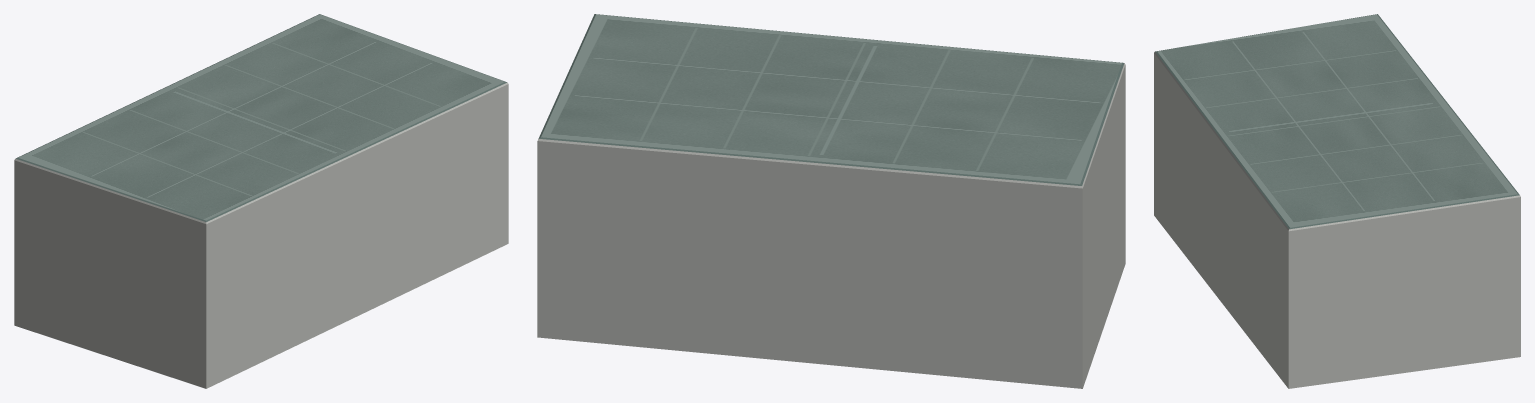
The model's file is fragments.glb.
The picture shows the model from 3 angles, left to right: view 1: azimuth 30°, elevation 25°; view 2: azimuth 150°, elevation 25°; view 3: azimuth 270°, elevation 25°; orthographic projection. The views are drawn at different scales.
Visible parts, largest first — view 1: SM_gh32_Fragment_000, SM_gh32_Fragment_017, SM_gh32_Fragment_029, SM_gh32_Fragment_004, SM_gh32_Fragment_005, SM_gh32_Fragment_002, SM_gh32_Fragment_010, SM_gh32_Fragment_021, SM_gh32_Fragment_054, SM_gh32_Fragment_041, SM_gh32_Fragment_006, SM_gh32_Fragment_043 (+26 smaller); view 2: SM_gh32_Fragment_025, SM_gh32_Fragment_040, SM_gh32_Fragment_024, SM_gh32_Fragment_007, SM_gh32_Fragment_027, SM_gh32_Fragment_039, SM_gh32_Fragment_058, SM_gh32_Fragment_020, SM_gh32_Fragment_003, SM_gh32_Fragment_015, SM_gh32_Fragment_049, SM_gh32_Fragment_043 (+24 smaller); view 3: SM_gh32_Fragment_022, SM_gh32_Fragment_008, SM_gh32_Fragment_009, SM_gh32_Fragment_030, SM_gh32_Fragment_015, SM_gh32_Fragment_029, SM_gh32_Fragment_051, SM_gh32_Fragment_037, SM_gh32_Fragment_000, SM_gh32_Fragment_043, SM_gh32_Fragment_002, SM_gh32_Fragment_028 (+23 smaller).
Part boxes in pixels (x1=…): SM_gh32_Fragment_000: x1=169, y1=175, x2=290, y2=284; SM_gh32_Fragment_017: x1=103, y1=199, x2=200, y2=311; SM_gh32_Fragment_029: x1=260, y1=130, x2=373, y2=240; SM_gh32_Fragment_004: x1=14, y1=138, x2=110, y2=216; SM_gh32_Fragment_005: x1=297, y1=238, x2=360, y2=344; SM_gh32_Fragment_002: x1=297, y1=99, x2=430, y2=173; SM_gh32_Fragment_010: x1=358, y1=220, x2=440, y2=315; SM_gh32_Fragment_021: x1=167, y1=299, x2=251, y2=388; SM_gh32_Fragment_054: x1=198, y1=218, x2=306, y2=309; SM_gh32_Fragment_041: x1=43, y1=206, x2=115, y2=298; SM_gh32_Fragment_006: x1=98, y1=287, x2=179, y2=375; SM_gh32_Fragment_043: x1=162, y1=90, x2=286, y2=143; SM_gh32_Fragment_025: x1=875, y1=135, x2=999, y2=289; SM_gh32_Fragment_040: x1=767, y1=238, x2=883, y2=365; SM_gh32_Fragment_024: x1=618, y1=114, x2=766, y2=241; SM_gh32_Fragment_007: x1=720, y1=120, x2=834, y2=269; SM_gh32_Fragment_027: x1=537, y1=200, x2=666, y2=344; SM_gh32_Fragment_039: x1=981, y1=173, x2=1090, y2=285; SM_gh32_Fragment_058: x1=800, y1=140, x2=918, y2=248; SM_gh32_Fragment_020: x1=660, y1=231, x2=770, y2=347; SM_gh32_Fragment_003: x1=834, y1=295, x2=985, y2=379; SM_gh32_Fragment_015: x1=537, y1=118, x2=623, y2=257; SM_gh32_Fragment_049: x1=975, y1=253, x2=1094, y2=357; SM_gh32_Fragment_043: x1=769, y1=82, x2=923, y2=140; SM_gh32_Fragment_022: x1=1371, y1=243, x2=1484, y2=356; SM_gh32_Fragment_008: x1=1270, y1=252, x2=1372, y2=340; SM_gh32_Fragment_009: x1=1379, y1=161, x2=1499, y2=248; SM_gh32_Fragment_030: x1=1264, y1=182, x2=1404, y2=254; SM_gh32_Fragment_015: x1=1459, y1=170, x2=1520, y2=291; SM_gh32_Fragment_029: x1=1191, y1=99, x2=1297, y2=191; SM_gh32_Fragment_051: x1=1436, y1=289, x2=1520, y2=368; SM_gh32_Fragment_037: x1=1336, y1=307, x2=1436, y2=380; SM_gh32_Fragment_000: x1=1154, y1=44, x2=1228, y2=127; SM_gh32_Fragment_043: x1=1289, y1=80, x2=1411, y2=132; SM_gh32_Fragment_002: x1=1228, y1=130, x2=1327, y2=201; SM_gh32_Fragment_028: x1=1319, y1=134, x2=1419, y2=189.
Bounding box in the file's own units: 2.2 × 0.7851 × 1.58.
4 materials, 1 textured.
